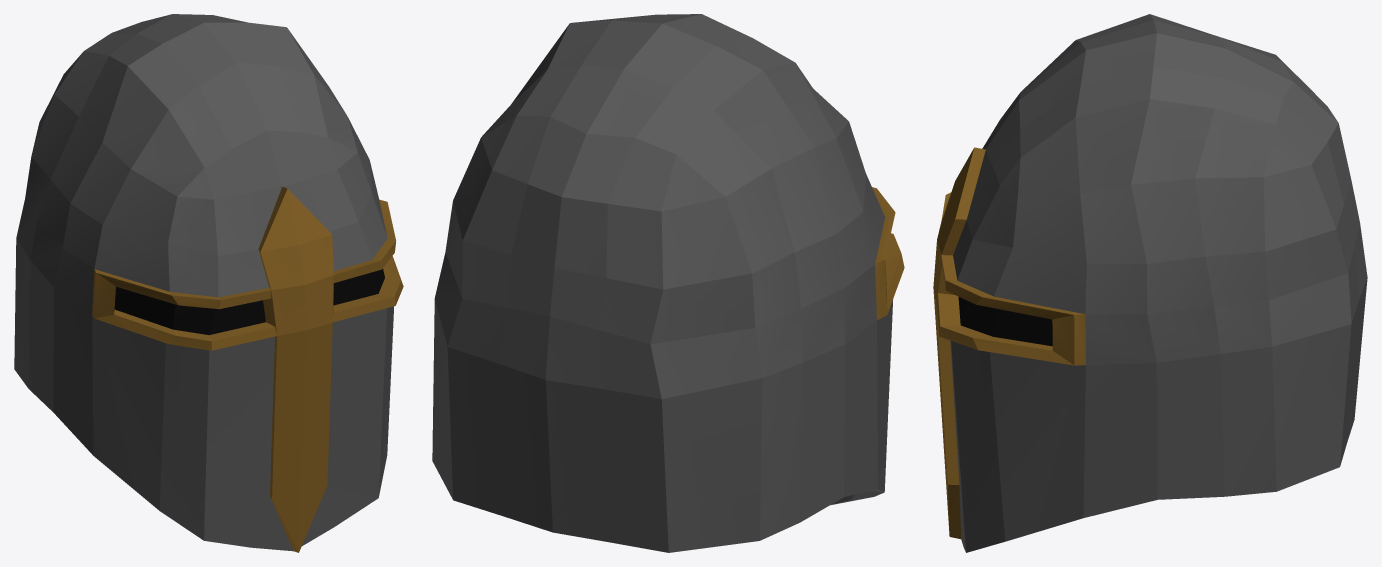
File: Helmet3.glb
The picture shows the model from 3 angles, left to right: view 1: azimuth 30°, elevation 25°; view 2: azimuth 150°, elevation 25°; view 3: azimuth 270°, elevation 25°; orthographic projection. The views are drawn at different scales.
Visible parts, largest first — view 1: Helmet3__ncl1_29.003; view 2: Helmet3__ncl1_29.003; view 3: Helmet3__ncl1_29.003.
Boxes of the visible parts, x1,y1,x2,y2 form: Helmet3__ncl1_29.003: (14, 14, 403, 552); Helmet3__ncl1_29.003: (432, 14, 904, 552); Helmet3__ncl1_29.003: (933, 14, 1367, 552).
Bounding box in the file's own units: 1.34 × 1.97 × 1.53.
